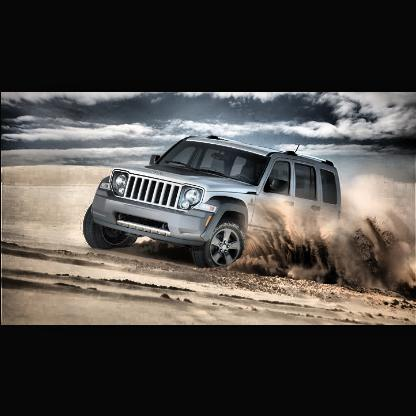Jeep Liberty SUV 2012: (83, 136, 343, 270)
